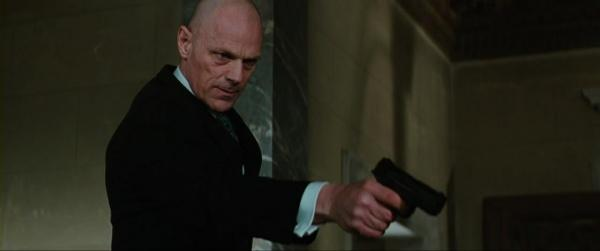Gun: (371, 155, 449, 226)
